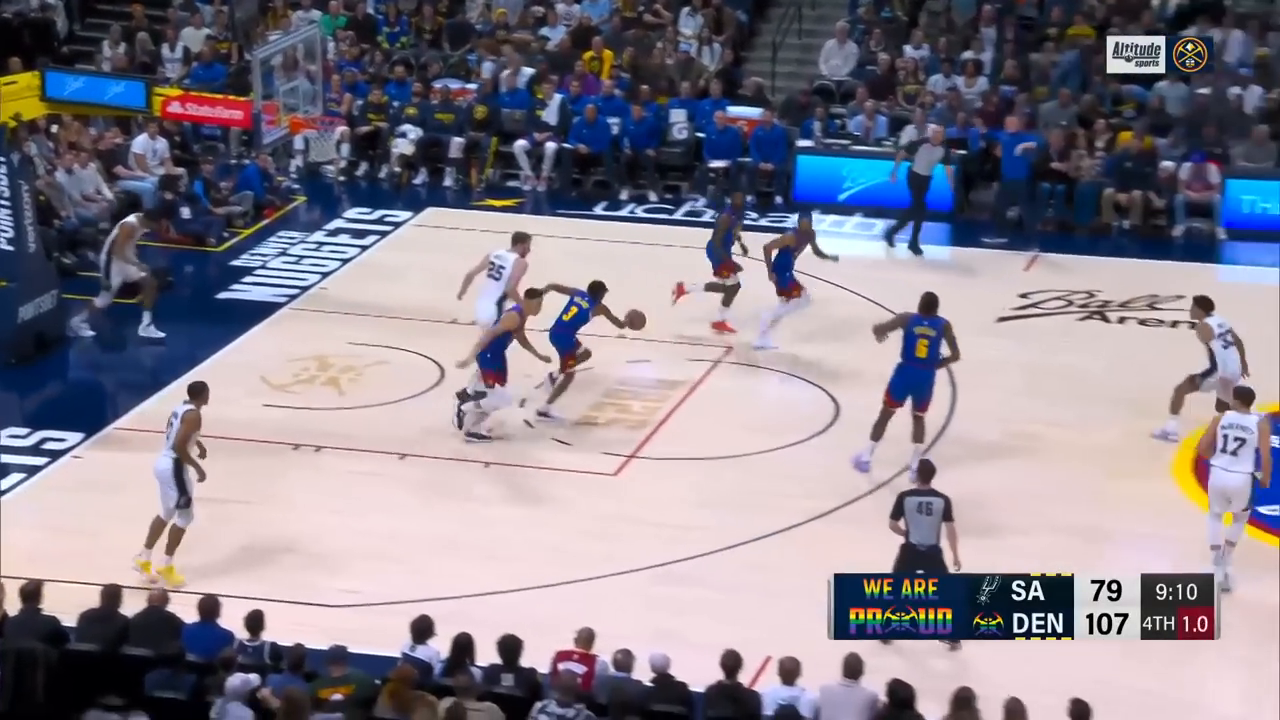ball: (623, 307, 649, 334)
net: (303, 113, 347, 164)
